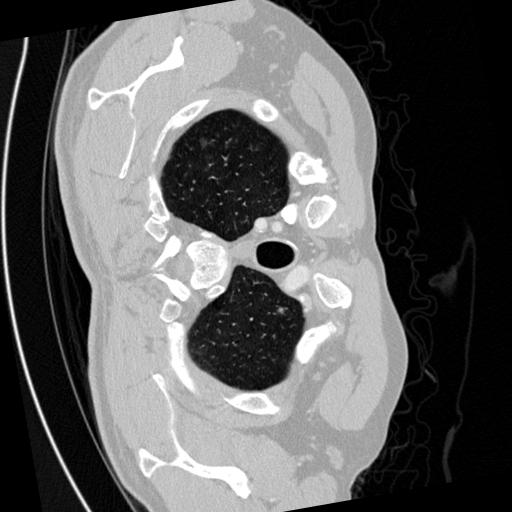nodule: (275, 306, 288, 319)
